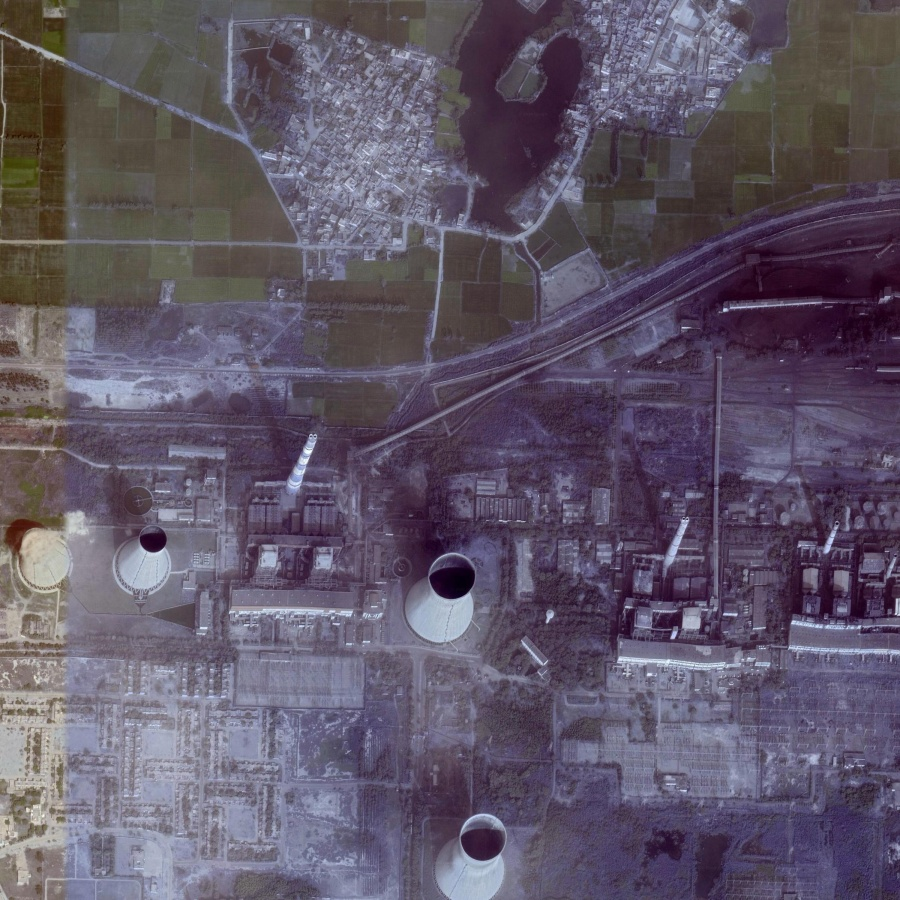PowerPlant: (8, 356, 484, 652)
